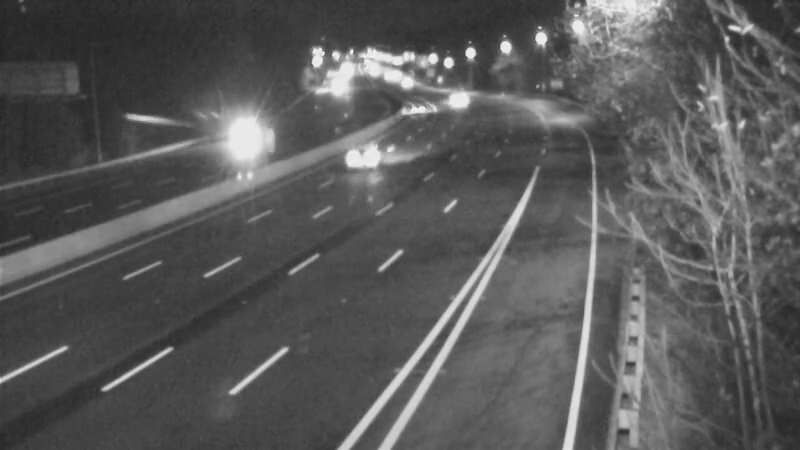vehicle: (324, 121, 404, 201), (430, 72, 480, 122), (393, 80, 443, 130), (218, 112, 268, 162)
